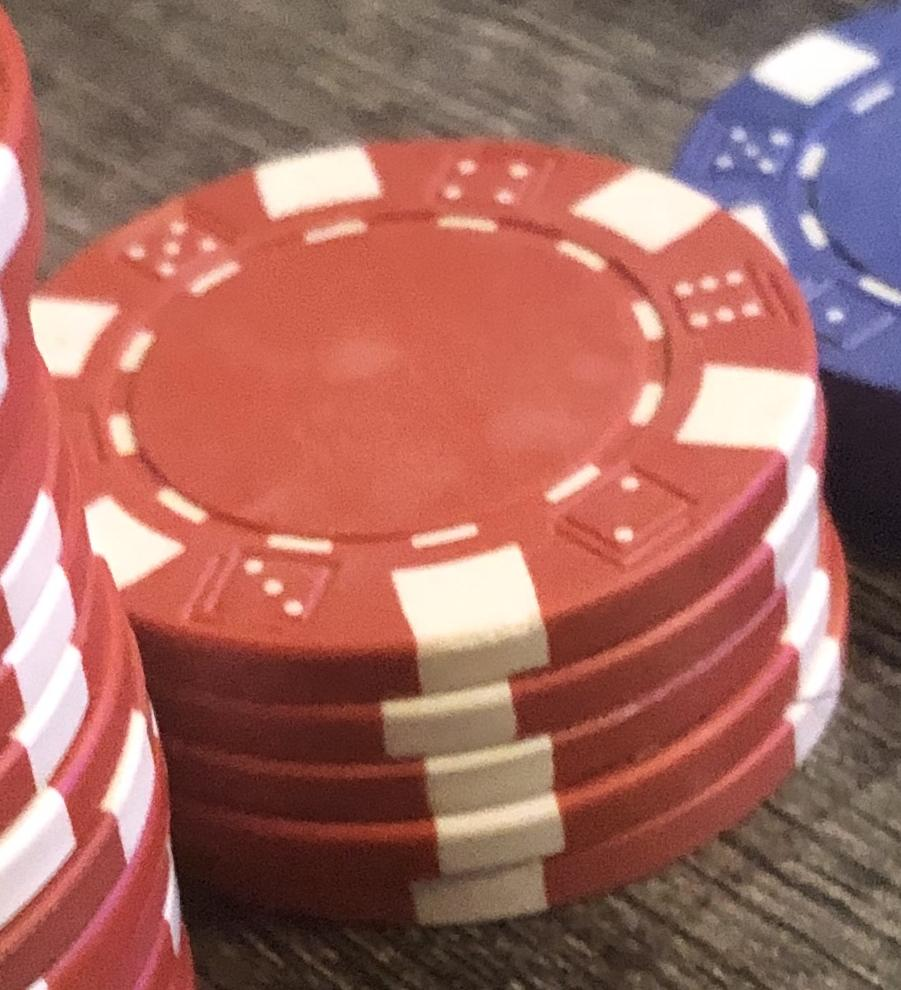Chip: (1, 1, 901, 990)
